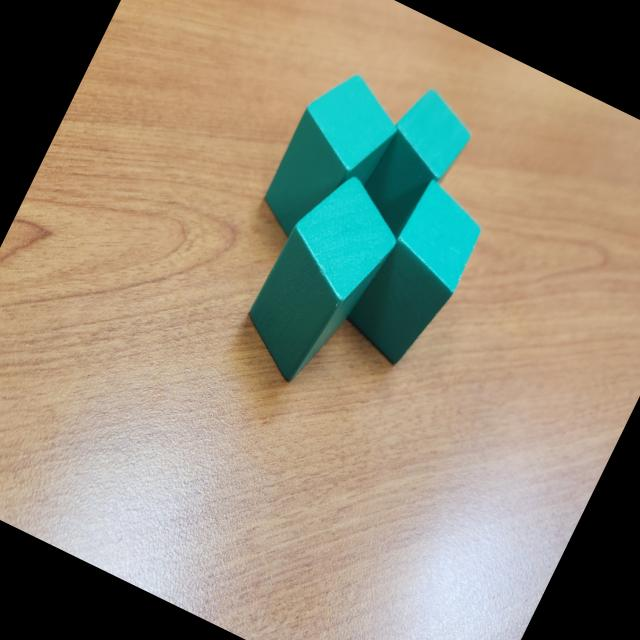green: (228, 158, 416, 398), (247, 58, 413, 266), (336, 170, 494, 376), (348, 79, 482, 252)
